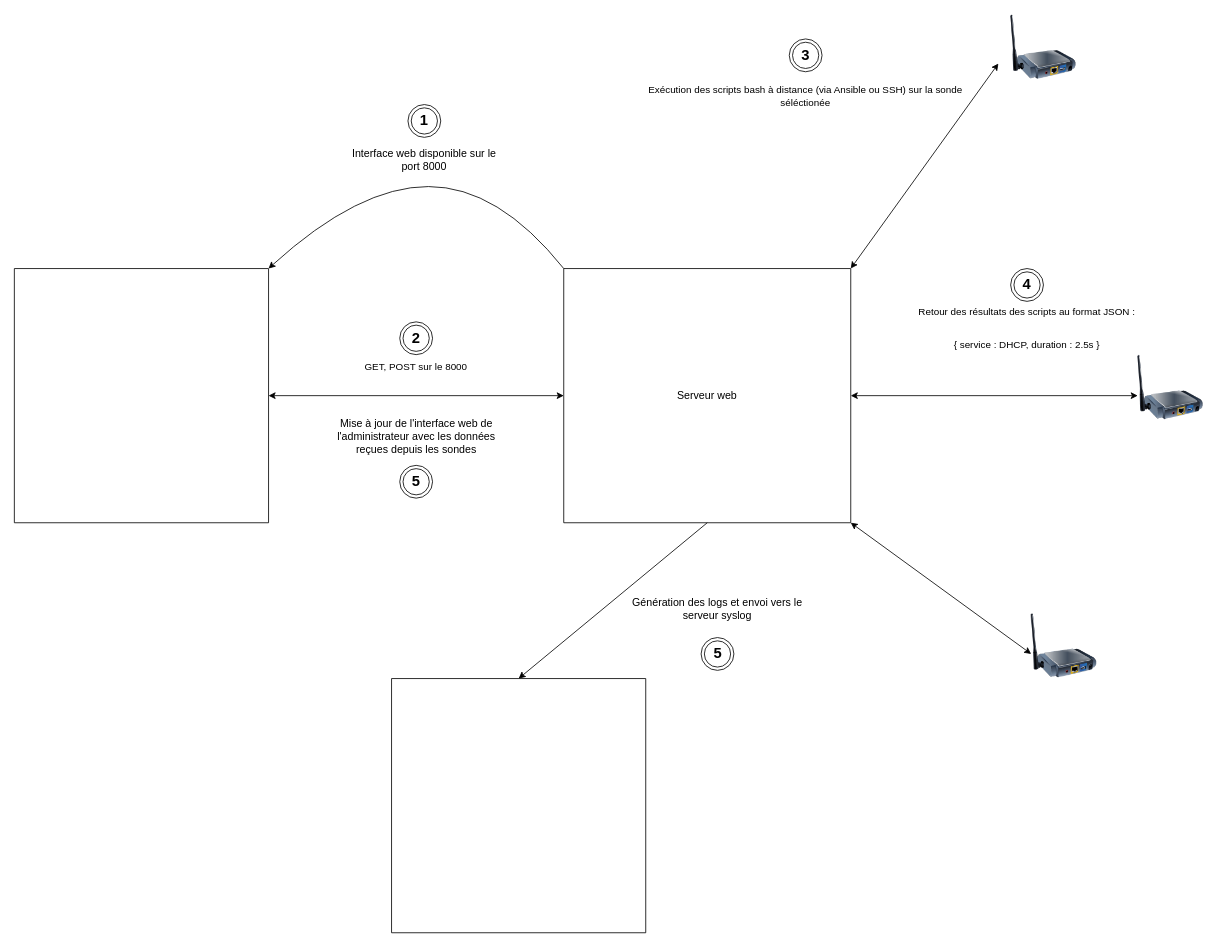
Some shapes in this 1218 by 947 pixel diagram are drawn without their labels. The shapes that lost their labels are listed below. From the top down, each one's centre as x and y in pixels, then its label:
[141,395]: Navigateur web
[518,805]: Serveur syslog
